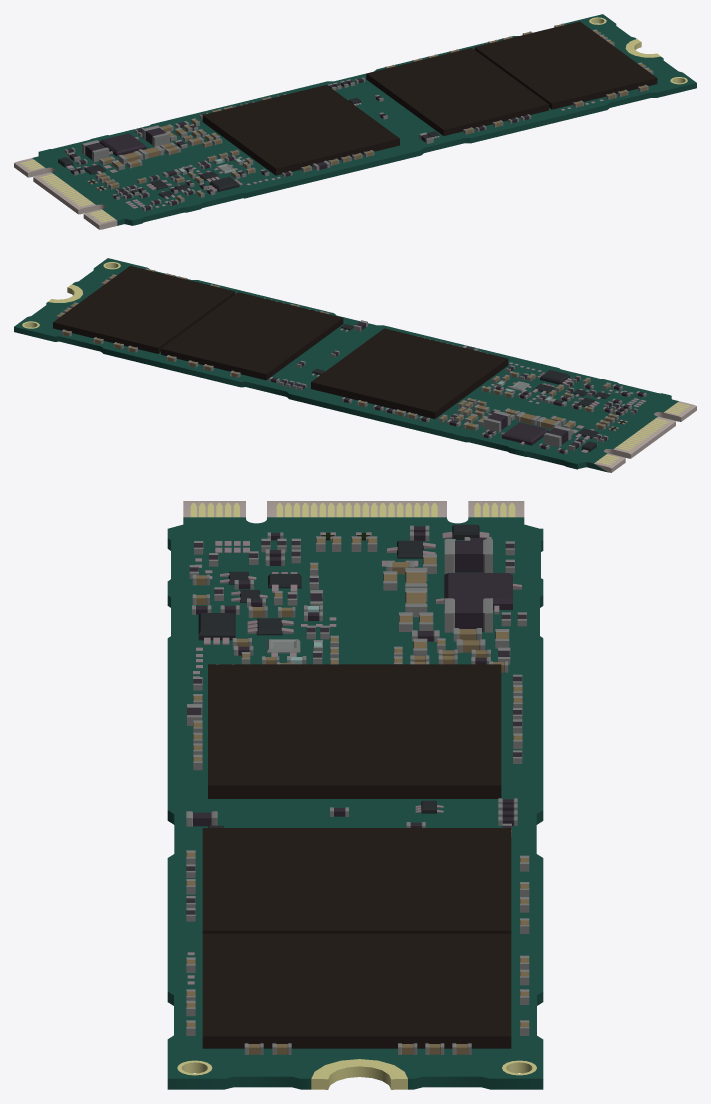
Rendered from RAM.fbx.
3 views of the same model, one above another, from view 1: azimuth 30°, elevation 25°; view 2: azimuth 150°, elevation 25°; view 3: azimuth 270°, elevation 25° (orthographic). The views are drawn at different scales.
Parts seen in each view (by area): view 1: _b0347bd55e344579ae16fd740eb1153_obj_cleaner_materialmerger_; view 2: _b0347bd55e344579ae16fd740eb1153_obj_cleaner_materialmerger_; view 3: _b0347bd55e344579ae16fd740eb1153_obj_cleaner_materialmerger_.
Part boxes in pixels (left/top/right/bottom): _b0347bd55e344579ae16fd740eb1153_obj_cleaner_materialmerger_: left=14, top=14, right=696, bottom=229; _b0347bd55e344579ae16fd740eb1153_obj_cleaner_materialmerger_: left=14, top=258, right=696, bottom=472; _b0347bd55e344579ae16fd740eb1153_obj_cleaner_materialmerger_: left=167, top=501, right=543, bottom=1089.
Bounding box in the file's own units: 21759 × 543 × 5961.
Materials: 1 (1 with a texture image).
